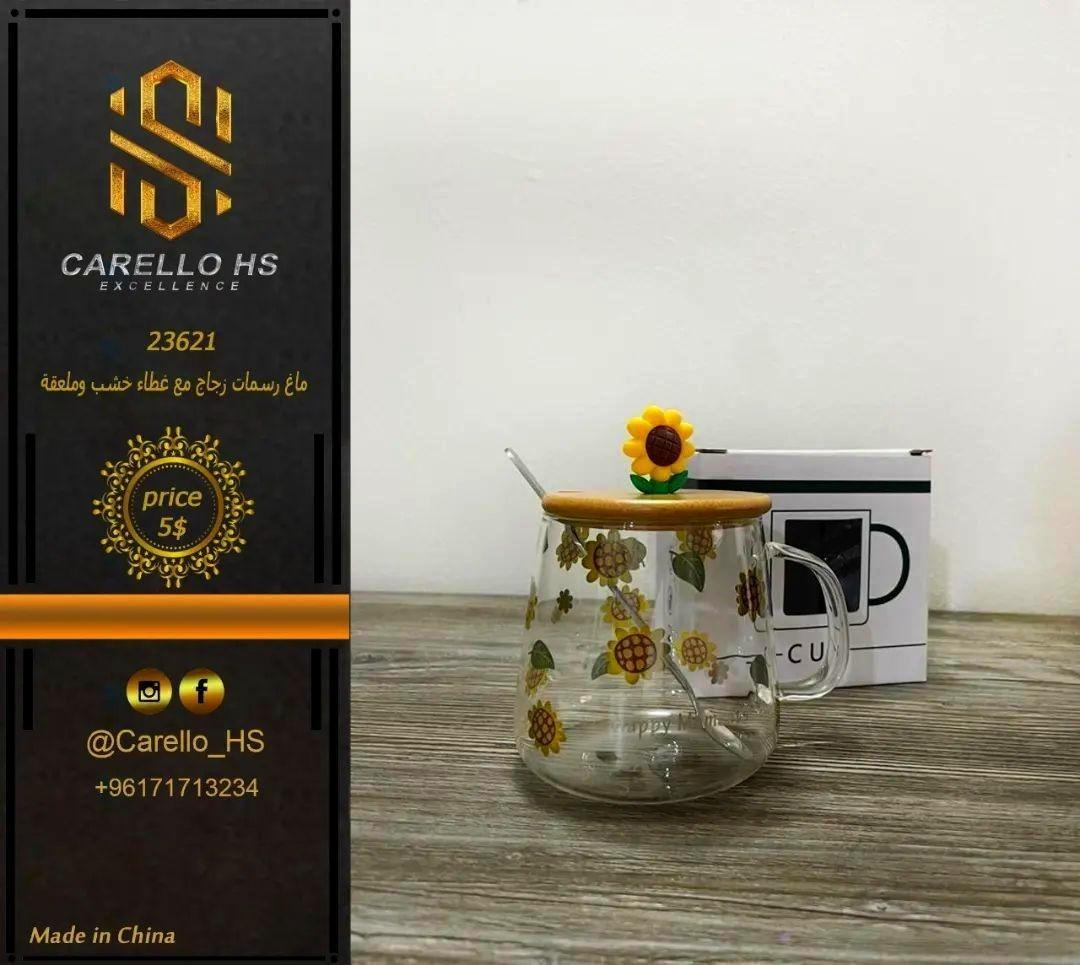glass-mug: (491, 480, 851, 825)
